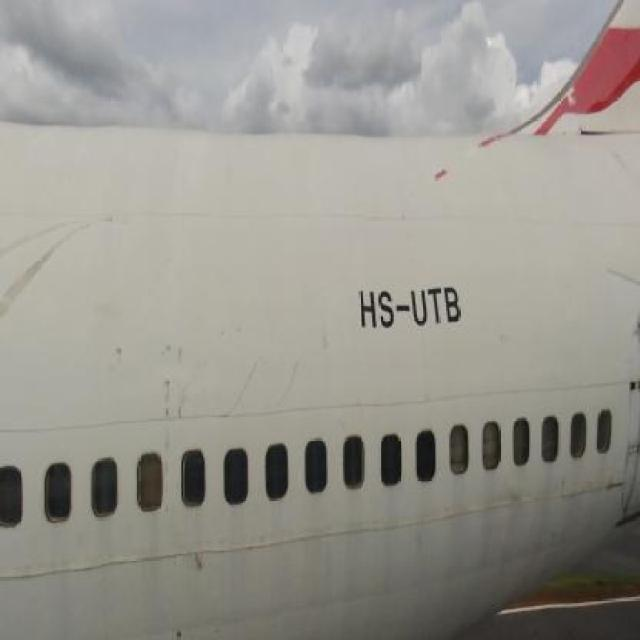Scartch: (154, 337, 192, 448), (562, 478, 626, 504), (189, 545, 216, 586), (621, 303, 640, 340)
